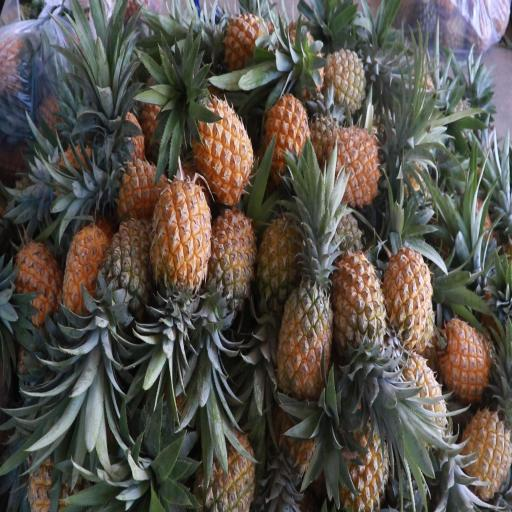------------------------------: (275, 262, 338, 403), (102, 215, 160, 319), (254, 196, 304, 311), (193, 423, 256, 512), (313, 37, 365, 116)
Pineapple - v8 v1: (144, 163, 212, 298), (188, 89, 252, 213), (326, 233, 385, 366), (376, 234, 438, 354), (328, 399, 389, 512), (201, 188, 255, 315), (98, 140, 174, 227), (316, 105, 386, 195), (61, 204, 110, 326), (433, 308, 492, 402), (259, 70, 312, 174), (459, 402, 512, 497), (8, 234, 61, 328), (212, 13, 268, 83)
